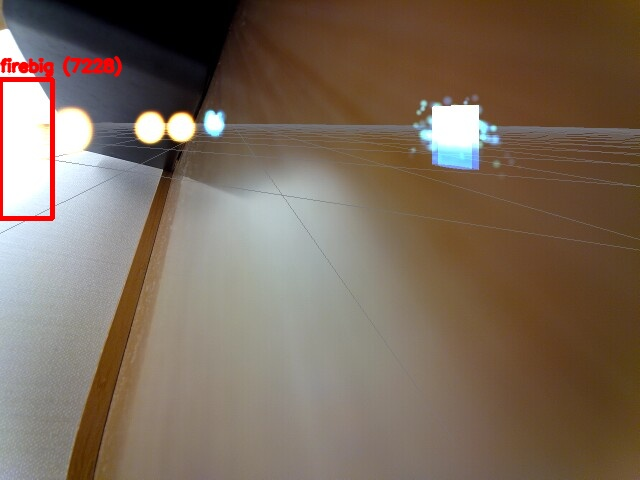firebig: (0, 79, 52, 218)
